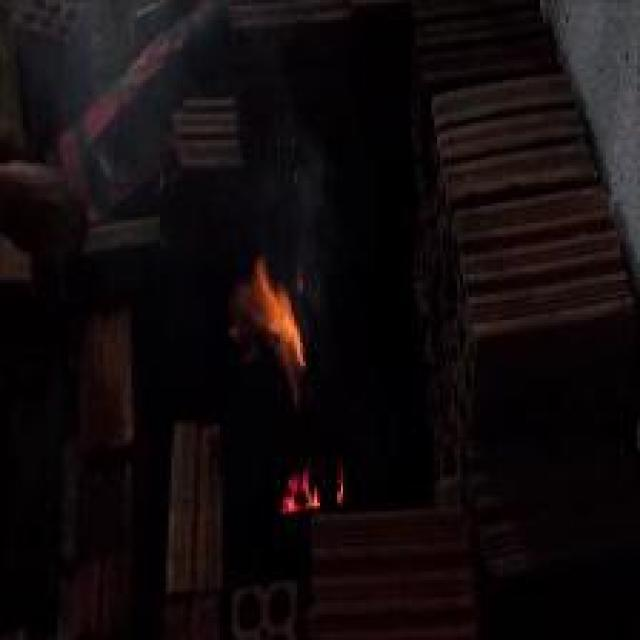Fire: (235, 258, 308, 376)
